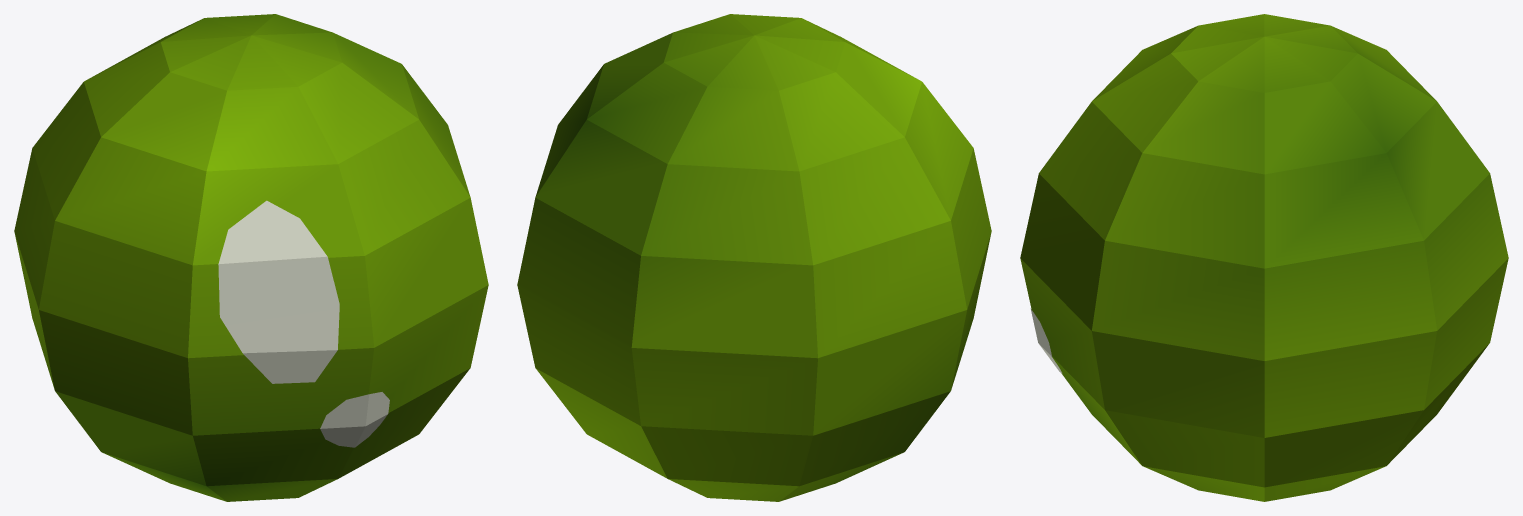
Rendered from rookieTrackerBulbOff.glb.
3 views of the same model, side by side, from view 1: azimuth 30°, elevation 25°; view 2: azimuth 150°, elevation 25°; view 3: azimuth 270°, elevation 25° (orthographic).
Parts seen in each view (by area): view 1: rookieTrackerBulbOff; view 2: rookieTrackerBulbOff; view 3: rookieTrackerBulbOff.
Boxes of the visible parts, left/top/right/bottom form: rookieTrackerBulbOff: left=14, top=14, right=488, bottom=501; rookieTrackerBulbOff: left=517, top=14, right=991, bottom=501; rookieTrackerBulbOff: left=1020, top=14, right=1508, bottom=501.
Bounding box in the file's own units: 0.3836 × 0.3836 × 0.3836.
